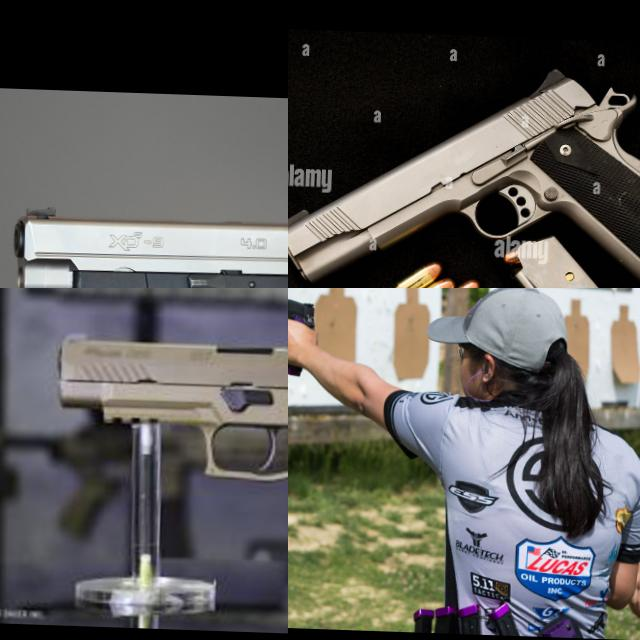handgun: (288, 54, 640, 288), (44, 324, 288, 614), (0, 195, 288, 288), (288, 288, 327, 333)
